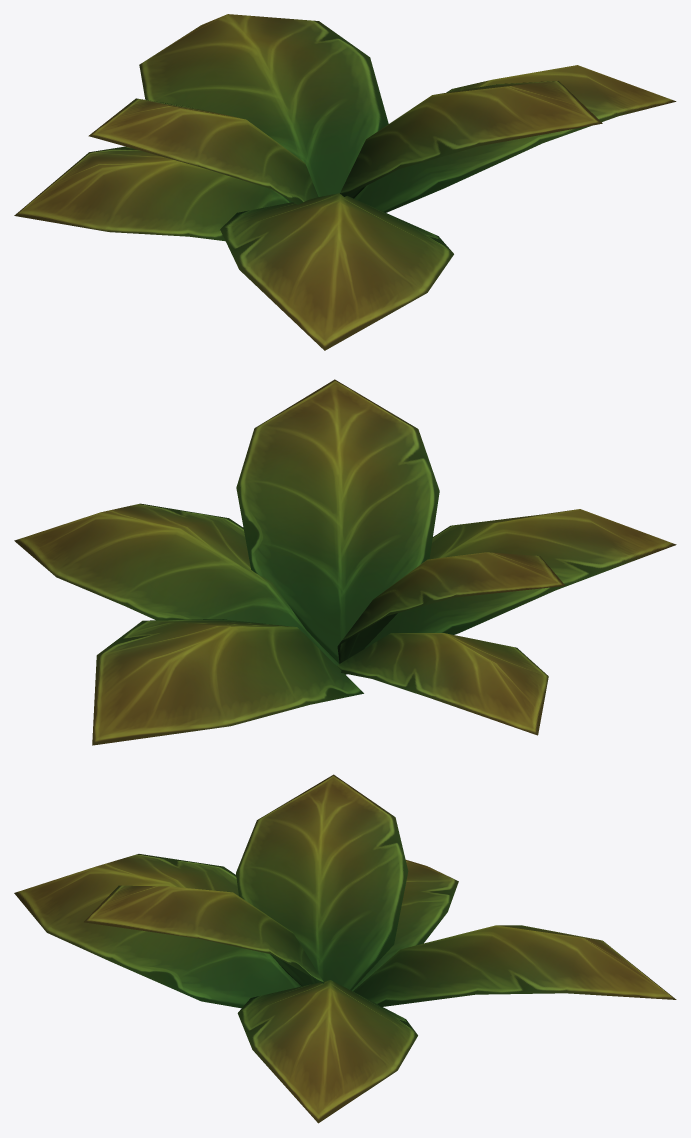
File: Plant.FBX
3 renders of one model, top to bottom at view 1: azimuth 30°, elevation 25°; view 2: azimuth 150°, elevation 25°; view 3: azimuth 270°, elevation 25°, orthographic. The views are drawn at different scales.
Parts seen in each view (by area): view 1: Plant; view 2: Plant; view 3: Plant.
Boxes of the visible parts, <box> form: Plant: <box>14,14,676,350</box>; Plant: <box>14,379,676,745</box>; Plant: <box>14,774,676,1123</box>.
Size of what is drawn, in the model's own units: 178 by 187 by 54.57.
